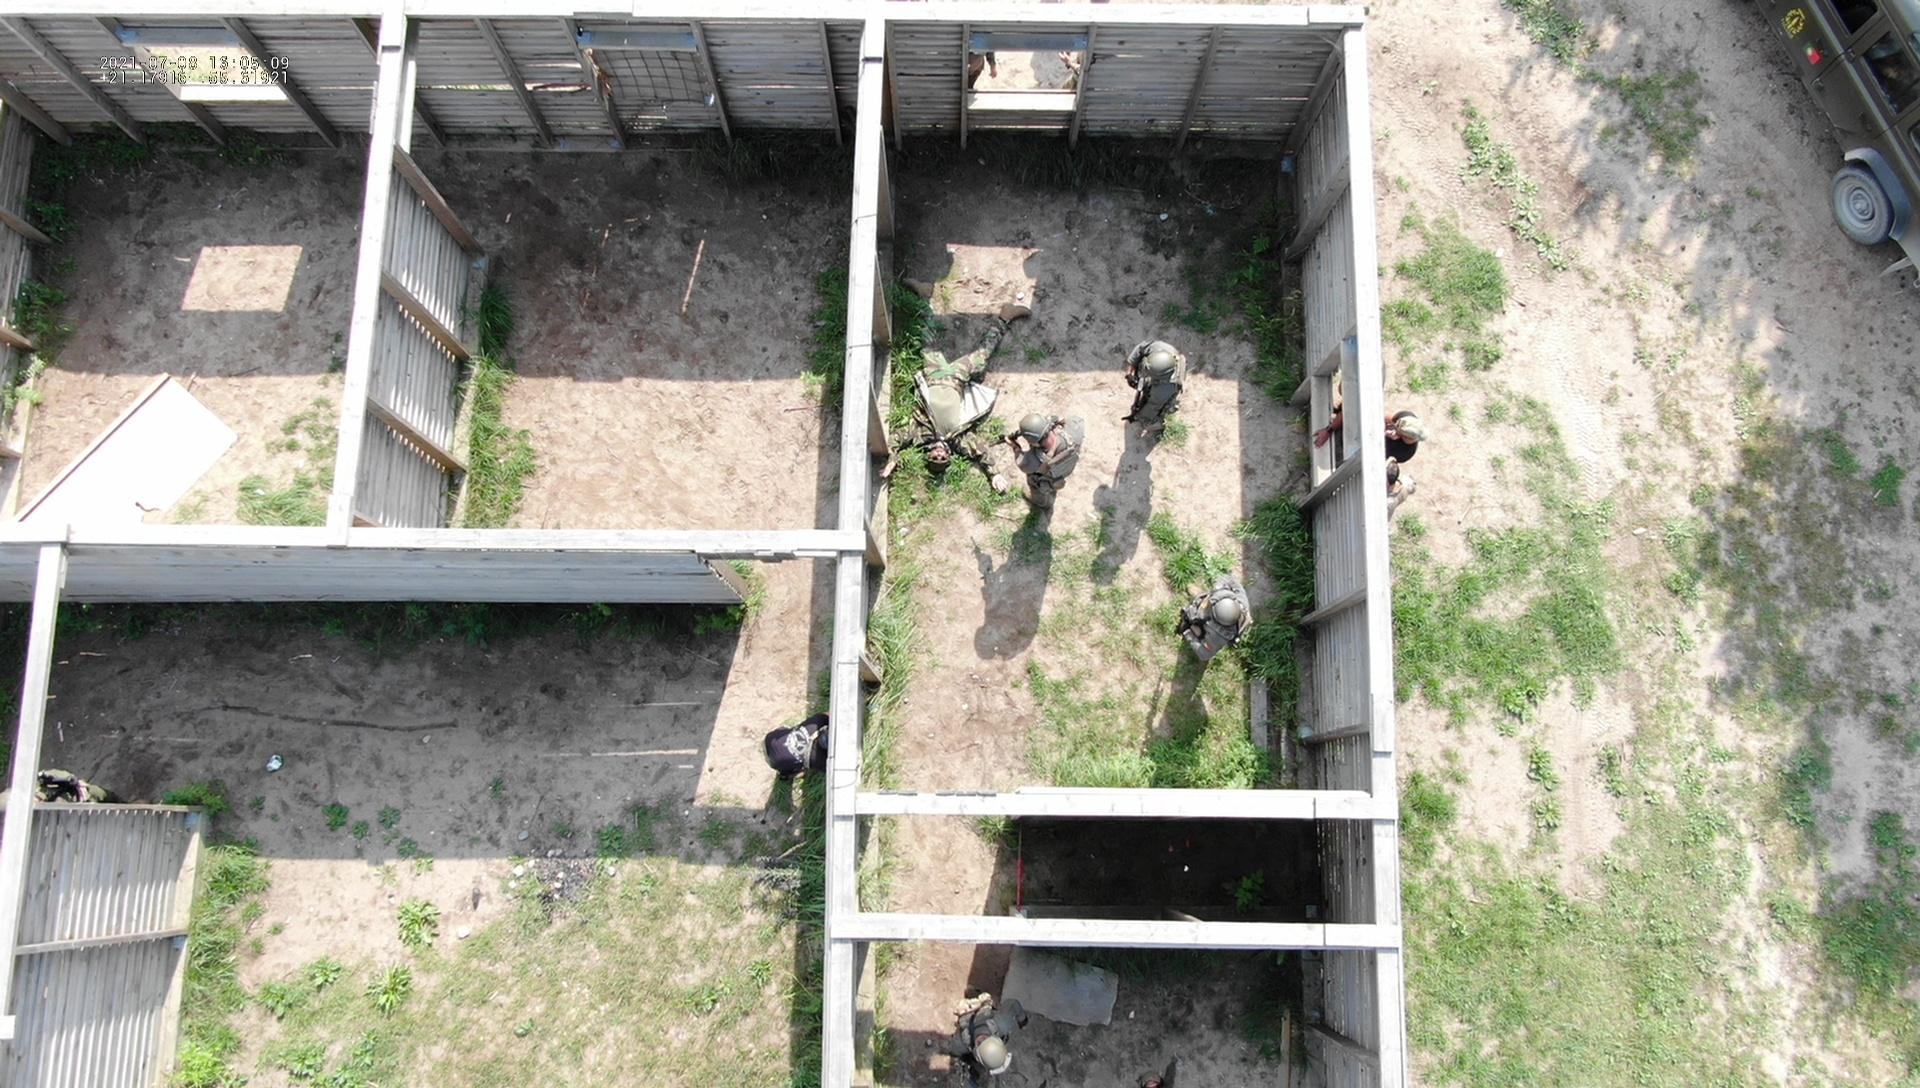Soldier: (866, 289, 997, 530), (1004, 386, 1098, 520), (1174, 551, 1270, 667), (1109, 328, 1200, 439), (934, 979, 1029, 1077)
